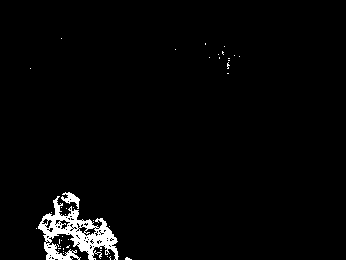person: (38, 191, 87, 260)
